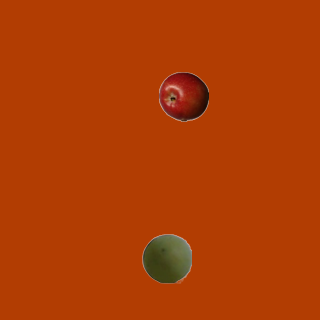Apple Braeburn: (158, 71, 208, 121)
Grape White 4: (141, 233, 191, 283)
